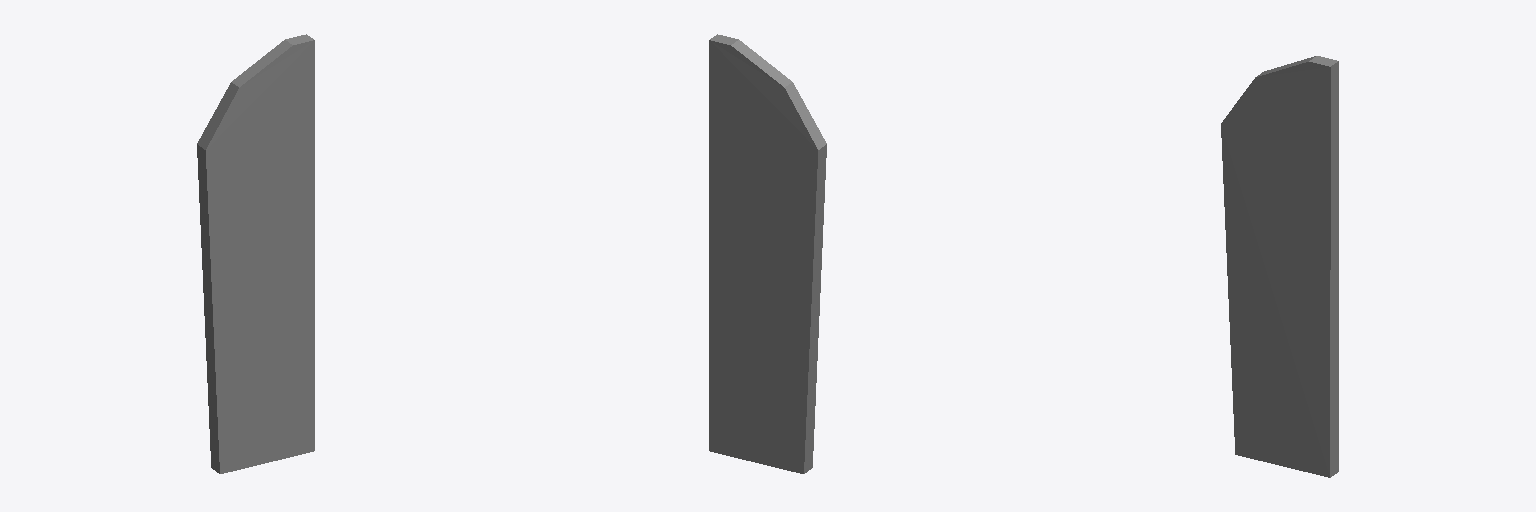
Rendered from ArcDoor2.obj.
3 views of the same model, side by side, from view 1: azimuth 30°, elevation 25°; view 2: azimuth 150°, elevation 25°; view 3: azimuth 330°, elevation 25° (orthographic).
Parts seen in each view (by area): view 1: Grim_Bear_Arc.001; view 2: Grim_Bear_Arc.001; view 3: Grim_Bear_Arc.001.
Part boxes in pixels (x1,y1,x2,y2): Grim_Bear_Arc.001: (197, 34, 314, 473); Grim_Bear_Arc.001: (709, 34, 826, 473); Grim_Bear_Arc.001: (1221, 56, 1338, 477).
Size of the model in its own units: 6.49 by 23.28 by 0.9023.